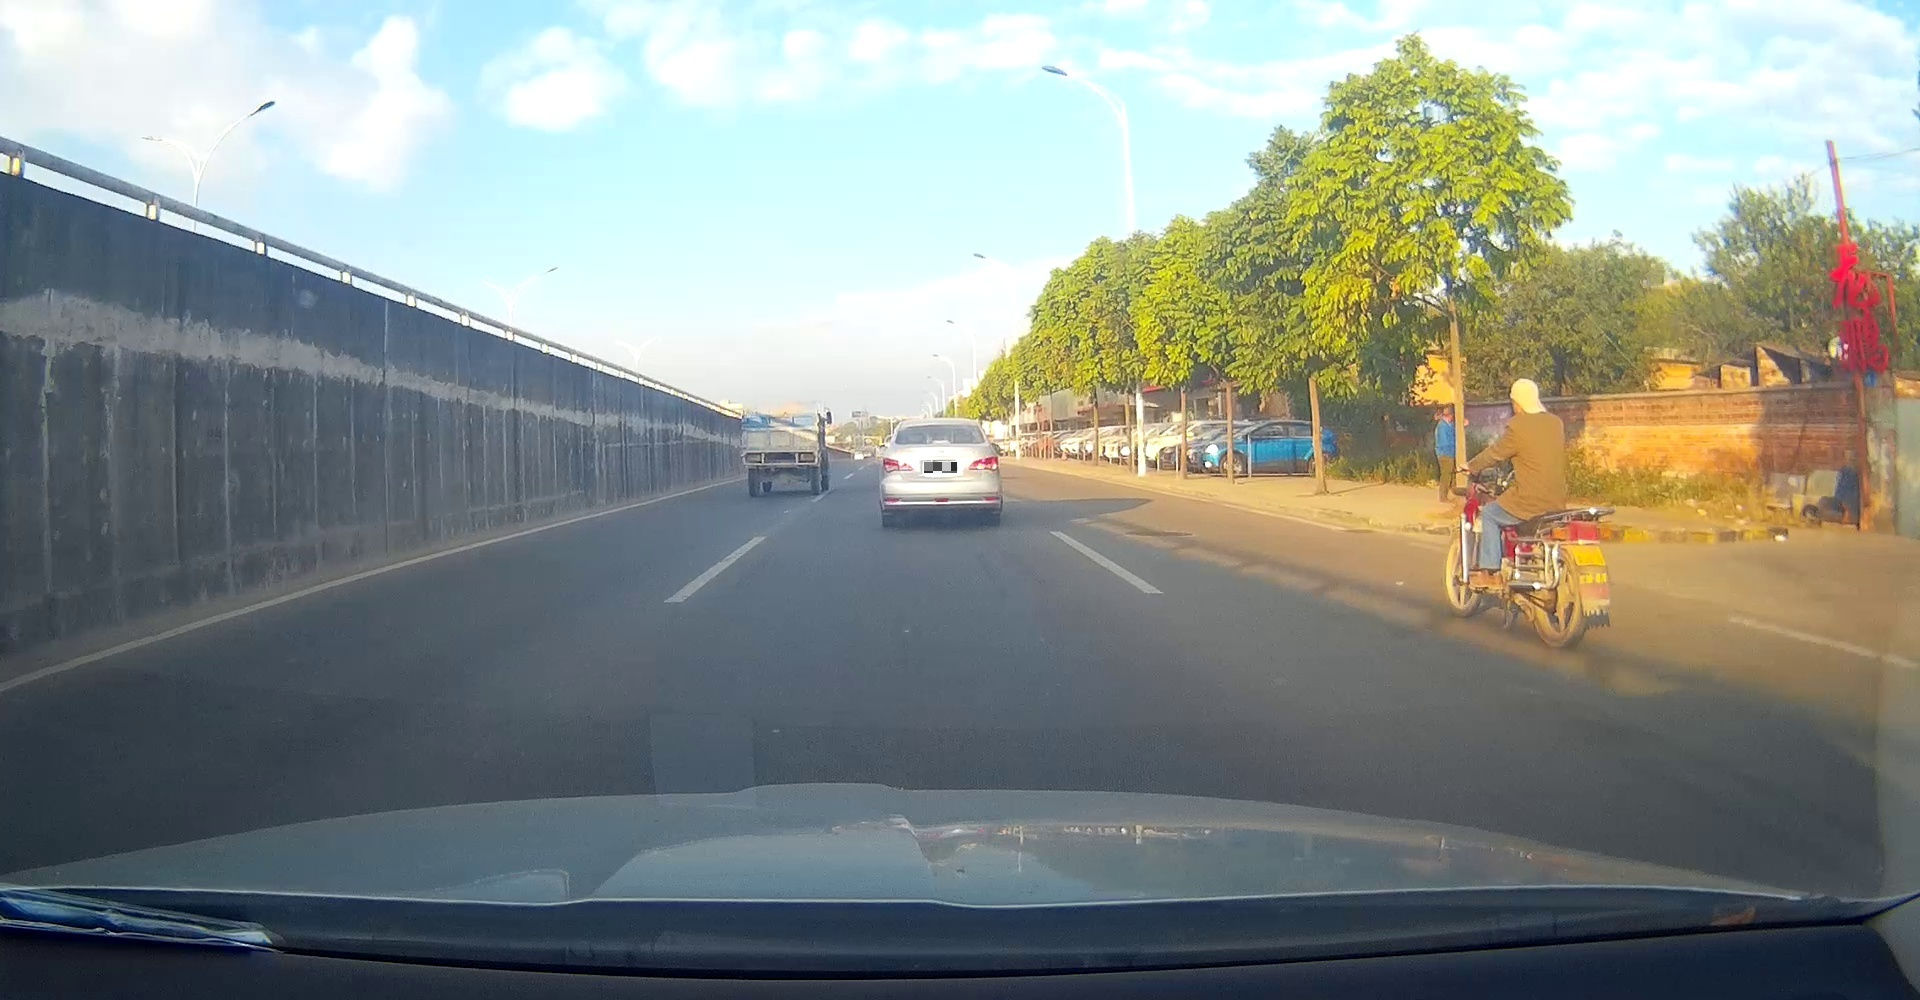L_light: (883, 457, 914, 473), (745, 453, 759, 462)
R_light: (968, 456, 998, 471), (799, 453, 815, 462)
T_light: (930, 440, 952, 447), (775, 429, 786, 435)
day-no: (881, 418, 1001, 527), (740, 426, 820, 496)
plate_1: (924, 462, 957, 473)
